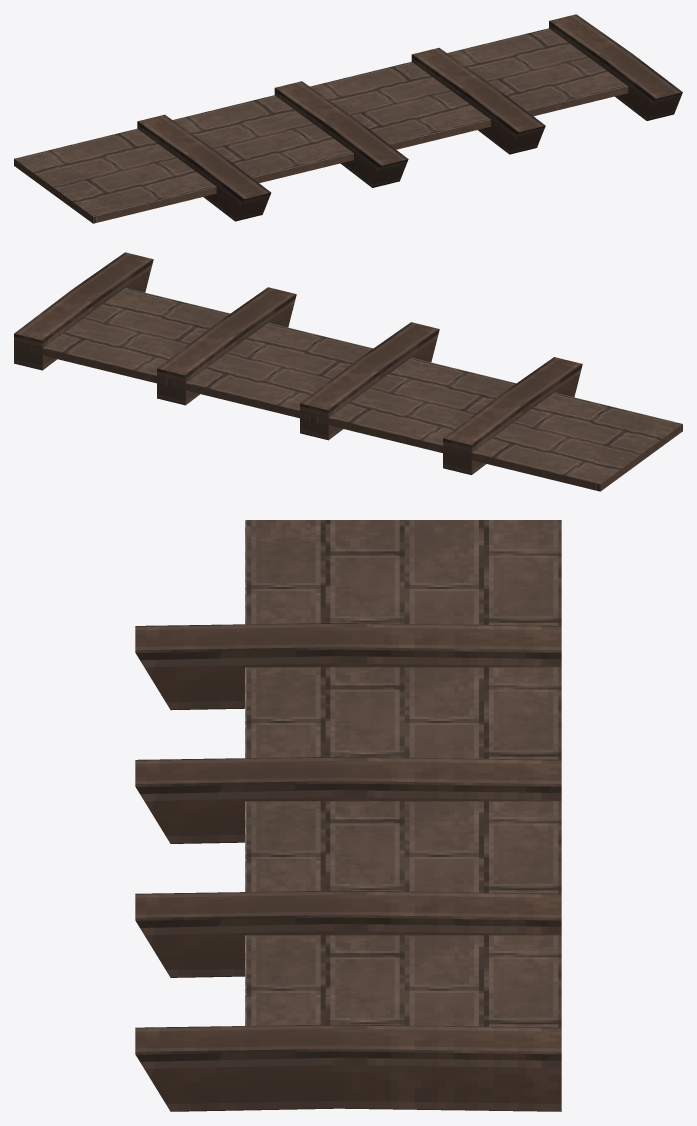
The model's file is overhang_large_end.glb.
3 renders of one model, top to bottom at view 1: azimuth 30°, elevation 25°; view 2: azimuth 150°, elevation 25°; view 3: azimuth 270°, elevation 25°, orthographic. The views are drawn at different scales.
Parts seen in each view (by area): view 1: overhang_large_end; view 2: overhang_large_end; view 3: overhang_large_end.
Boxes of the visible parts, x1=… form: overhang_large_end: x1=14, y1=14, x2=682, y2=223; overhang_large_end: x1=14, y1=252, x2=682, y2=491; overhang_large_end: x1=135, y1=520, x2=561, y2=1111.
Bounding box in the file's own units: 4.1 × 0.2108 × 1.35.
1 material, 1 textured.
